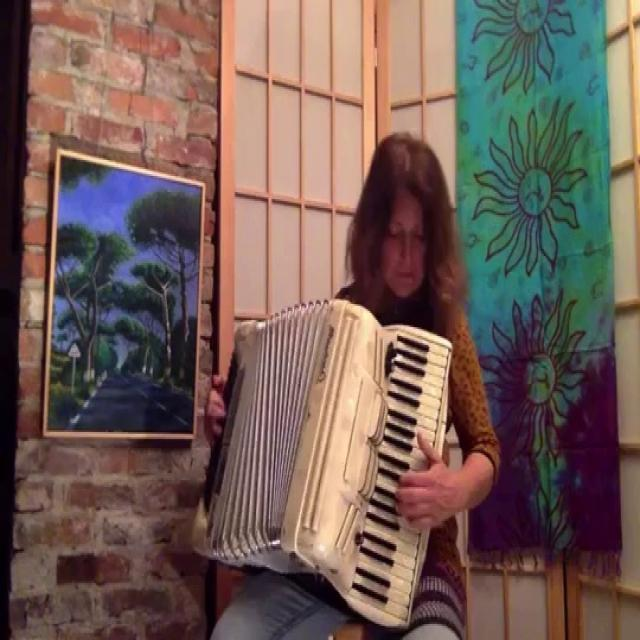Accordion: (204, 300, 451, 621)
